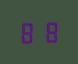eight: (19, 20, 38, 44), (39, 19, 58, 43)
